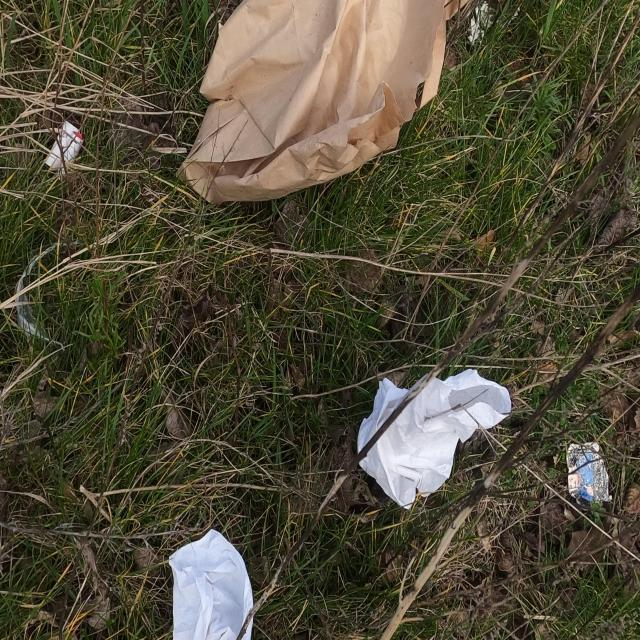Paper: (354, 366, 522, 516), (158, 521, 262, 640)
